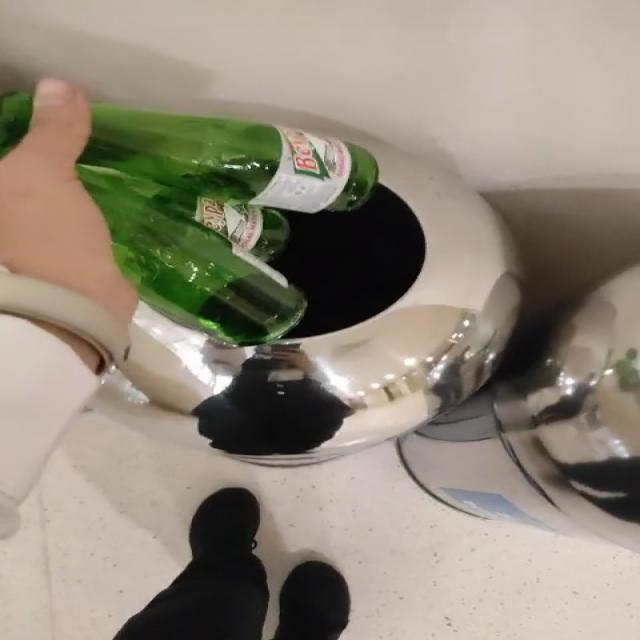bin: (125, 140, 520, 465)
glass: (76, 104, 377, 344), (76, 105, 377, 344)
